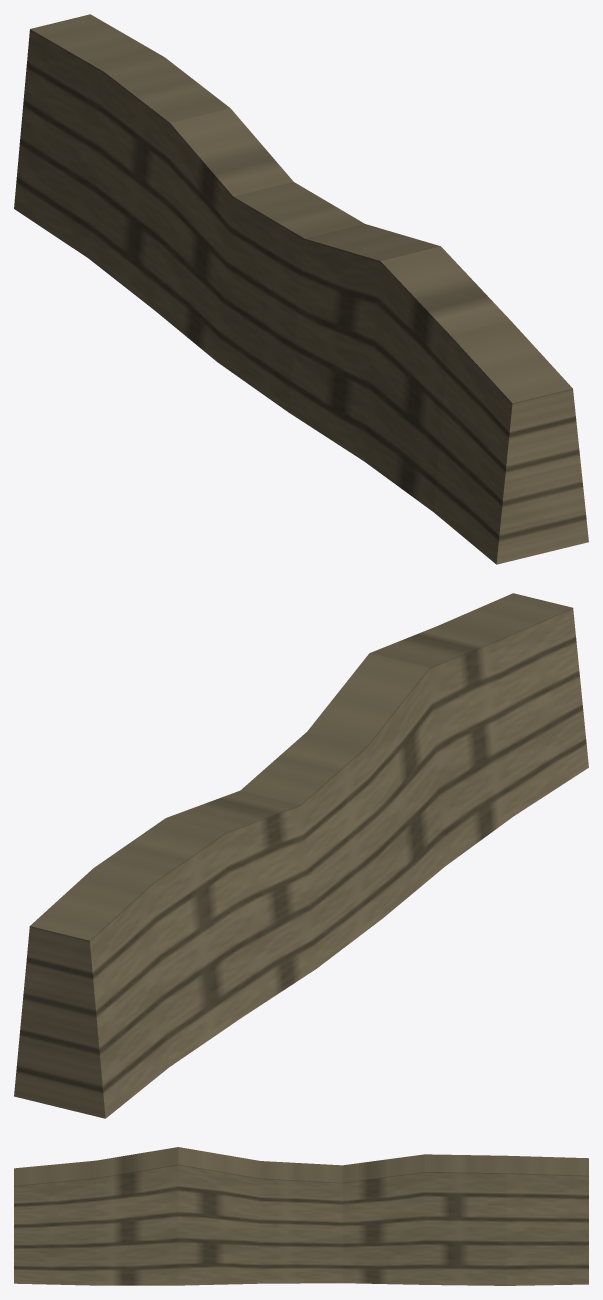
The model's file is wall-earth-lod1.glb.
3 renders of one model, top to bottom at view 1: azimuth 30°, elevation 25°; view 2: azimuth 150°, elevation 25°; view 3: azimuth 270°, elevation 25°, orthographic. The views are drawn at different scales.
Bounding box in the file's own units: 0.1214 × 0.2236 × 1.
Materials: 1 (1 with a texture image).
